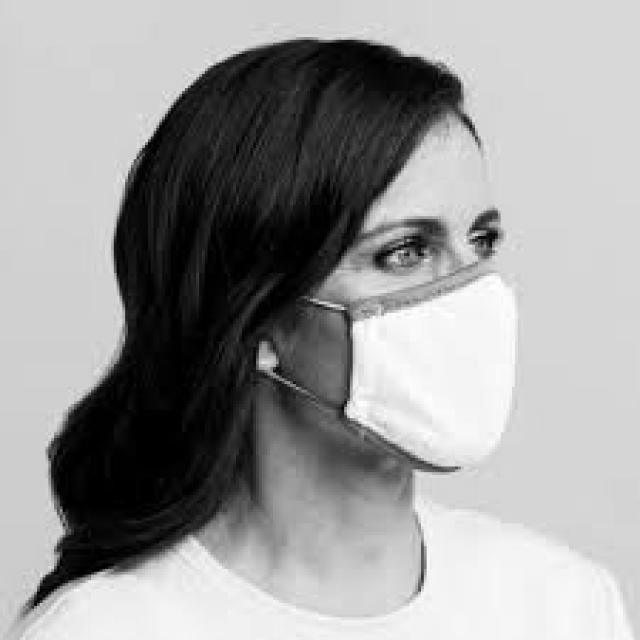fake: (328, 255, 532, 504)
real: (285, 107, 505, 481)
